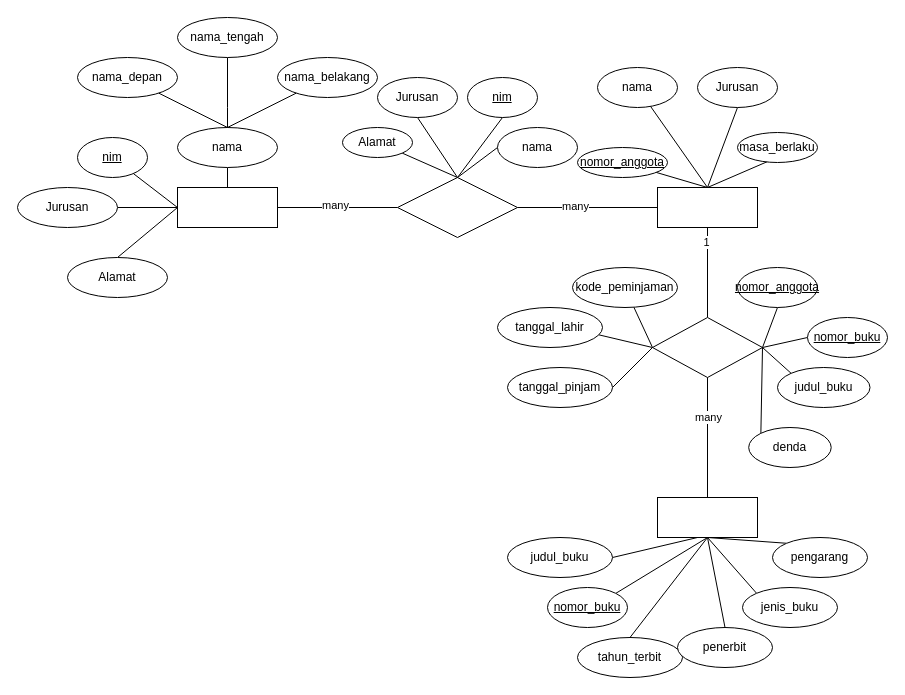
This 905x695 diagram has some shape labels left out. Here are the shapes that lost their labels. From the top down, the centre of each, then its label:
[227,207]: Mahasiswa
[457,207]: Mendaftar
[707,207]: Anggota Perpustakaan
[707,347]: Meminjam
[707,517]: Buku
